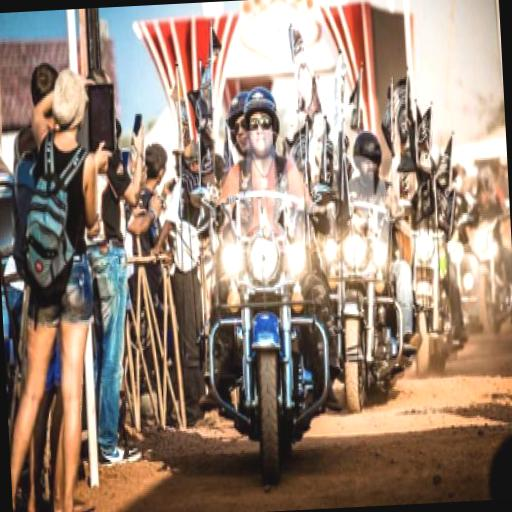helmet: (197, 80, 330, 481)
